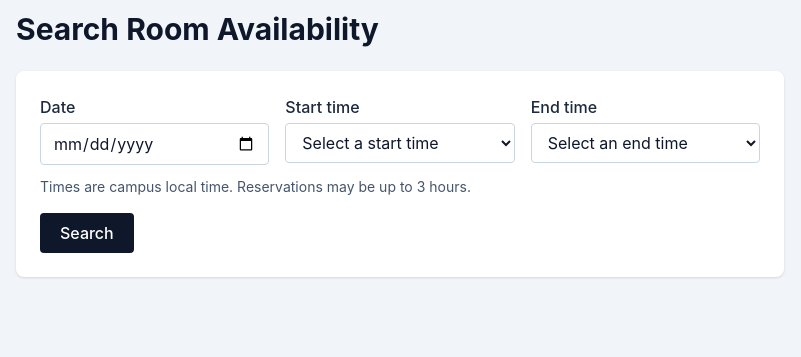
Test case: RoomAvailabilityPage › shows the backend's field message when it rejects the window
Type "2026-03-08" into the date field labelled "Date".
click(155, 144); type("2026-03-08")  # box 40,123 -> 269,165
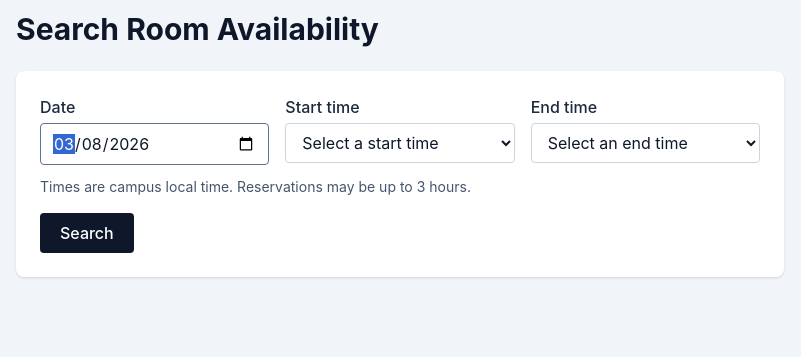
Select "2:30 AM" in the dropdown labelled "Start time" at (400, 143), box 285,123 -> 515,163
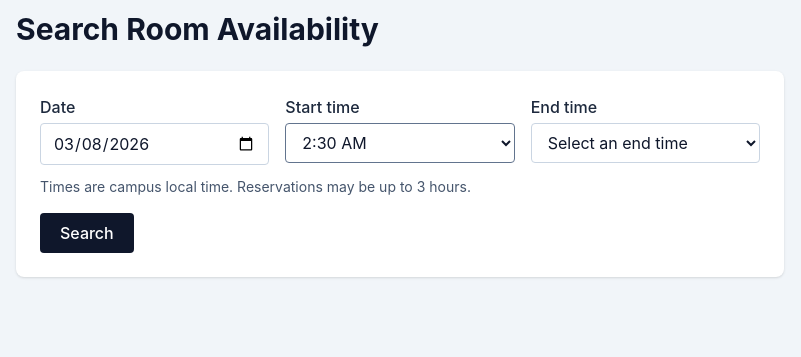
Select "3:30 AM" in the dropdown labelled "End time" at (645, 143), box 531,123 -> 760,163
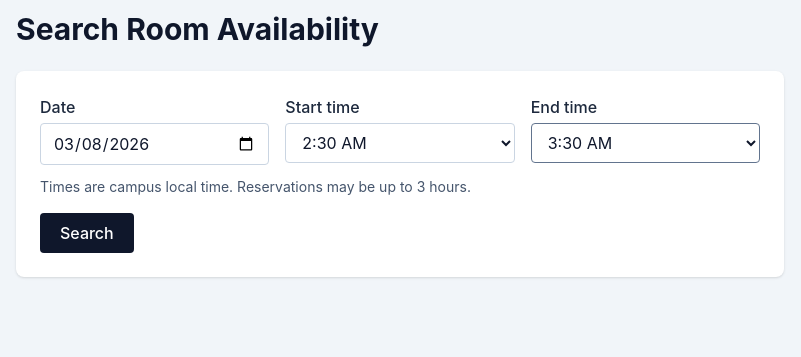
Click the button "Search".
click(87, 233)  # box 40,213 -> 134,253
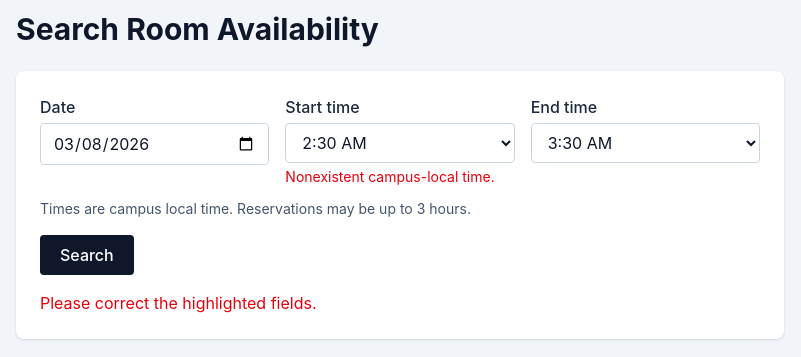
Expected: the text "Nonexistent campus-local time." is shown, 285,167 -> 515,187
